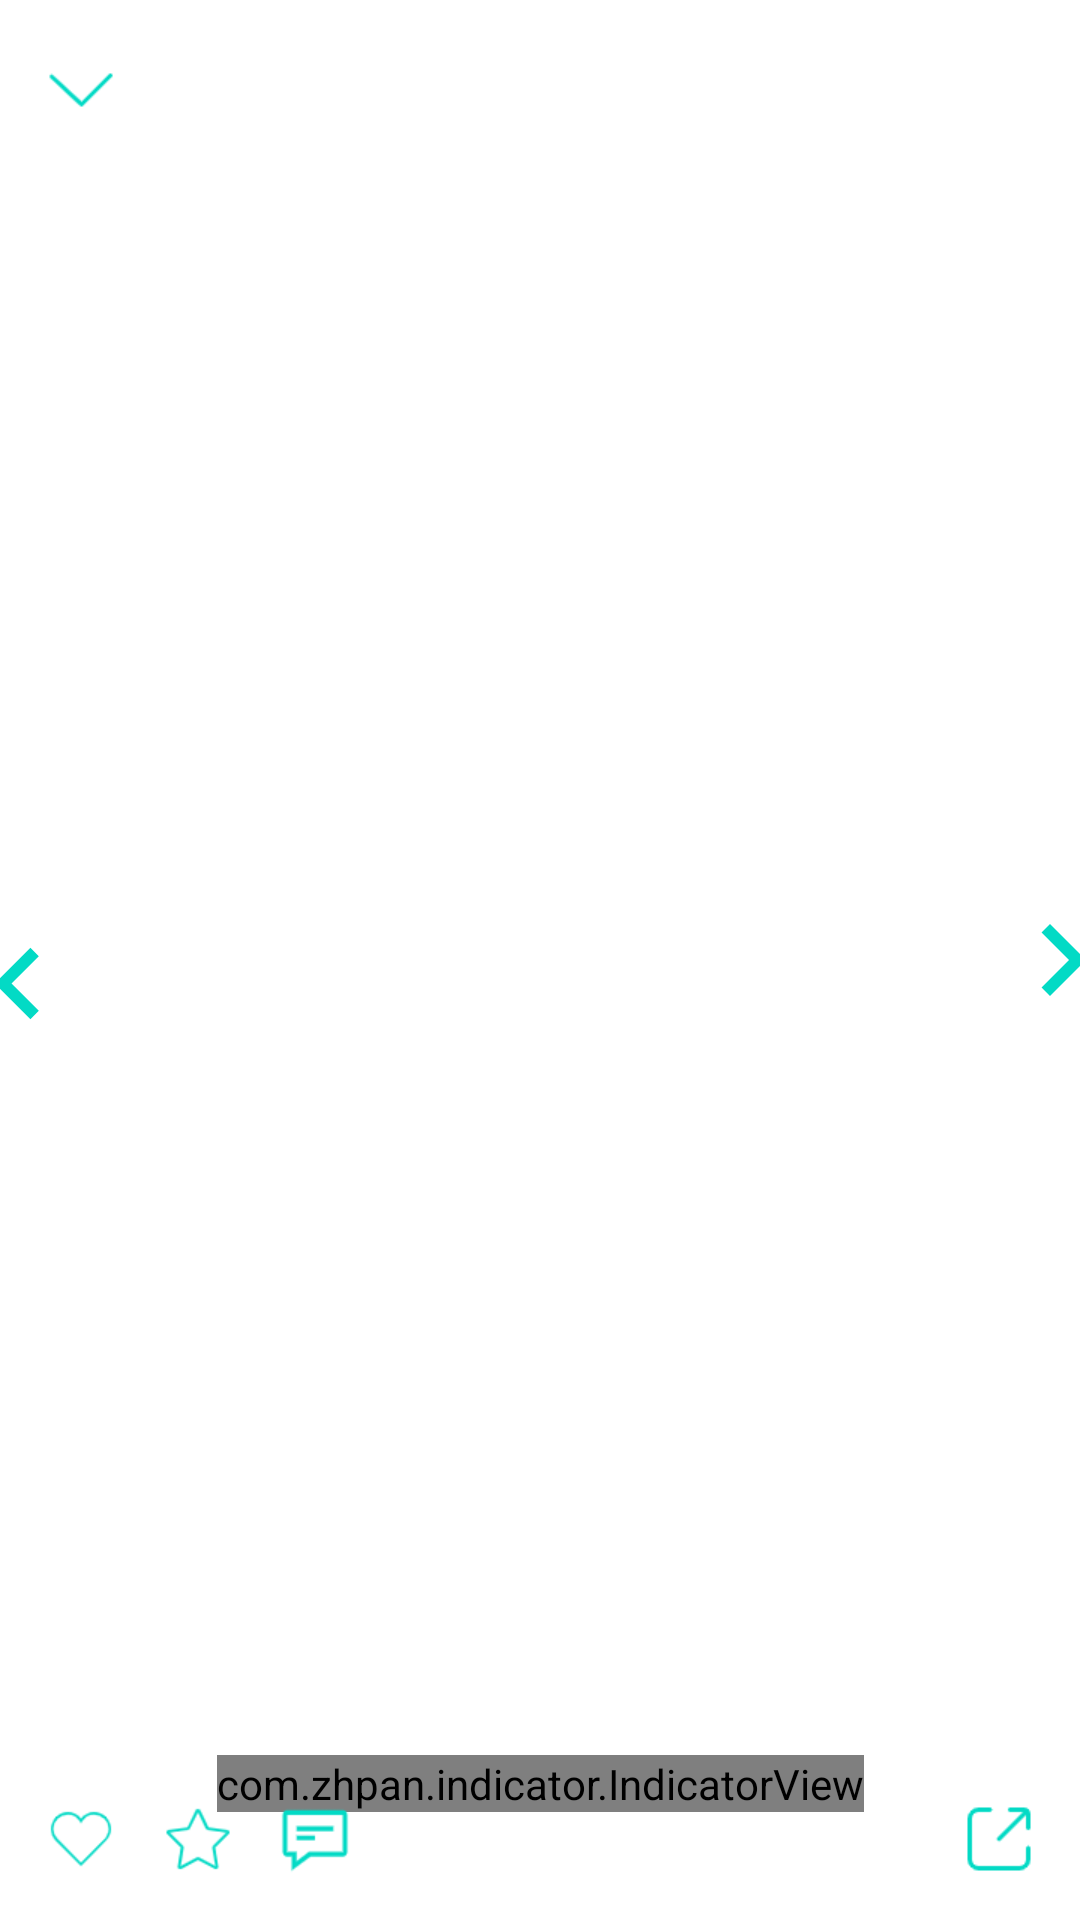

Point at icon controls on the screen. Image size 1080w x 1920h, points as (x,y).
arrow down: (81,90)
分享: (999,1839)
喜欢: (81,1838)
收藏: (198,1839)
评论: (315,1837)
